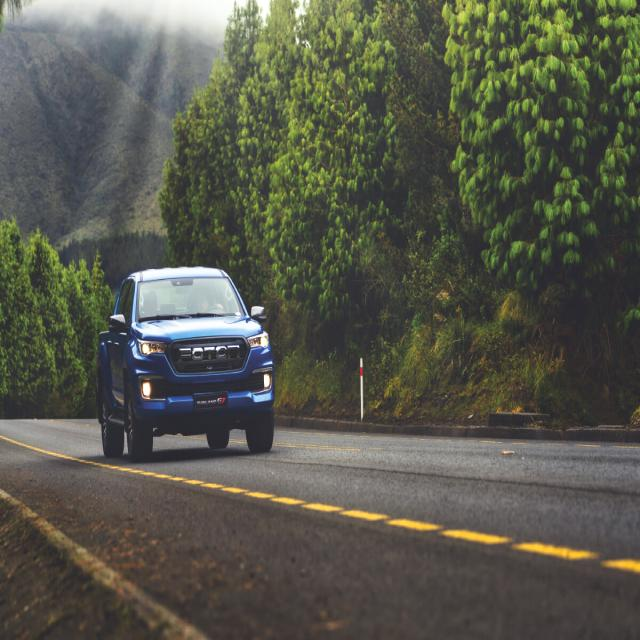CMT: (90, 270, 279, 466)
